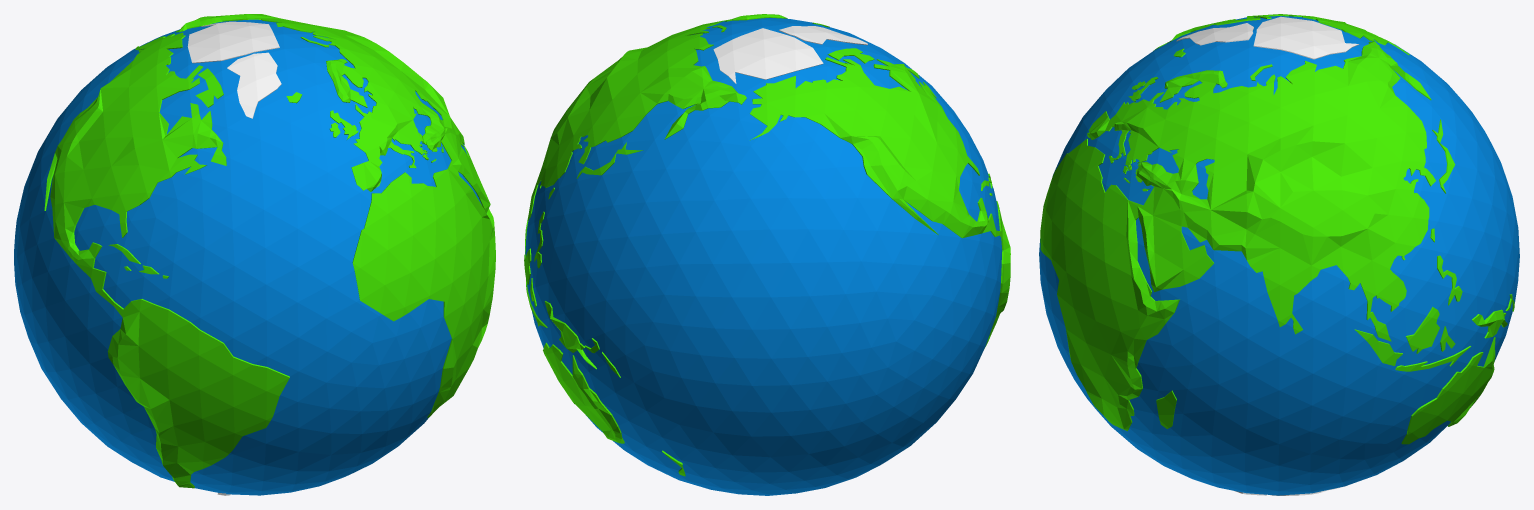
Rendered from Earth.glb.
3 views of the same model, side by side, from view 1: azimuth 30°, elevation 25°; view 2: azimuth 150°, elevation 25°; view 3: azimuth 270°, elevation 25° (orthographic).
Parts seen in each view (by area): view 1: Earth; view 2: Earth; view 3: Earth.
Part boxes in pixels (bbox=[...]): Earth: bbox=[14, 14, 495, 495]; Earth: bbox=[524, 14, 1010, 495]; Earth: bbox=[1039, 14, 1519, 495].
Size of the model in its own units: 10 by 10.05 by 10.
